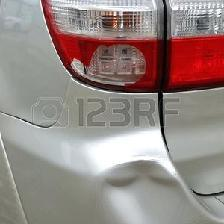broken_light: (11, 0, 224, 117)
dent: (24, 38, 221, 220)
